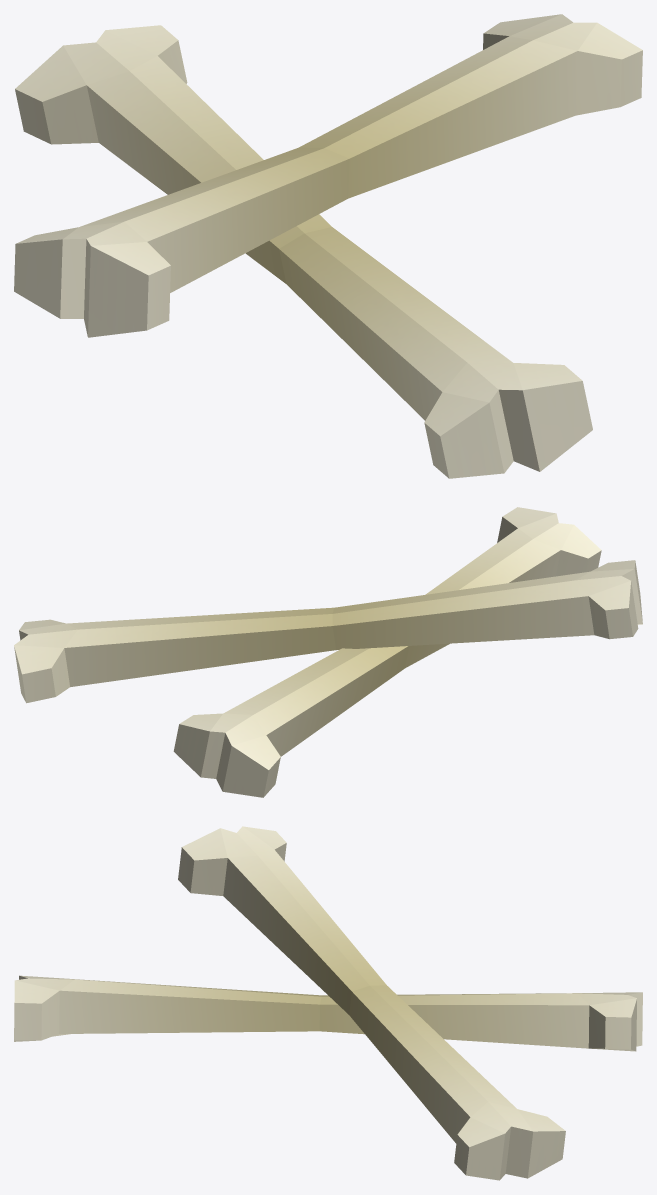
The model's file is Bones_Crossbones.fbx.
3 views of the same model, one above another, from view 1: azimuth 30°, elevation 25°; view 2: azimuth 150°, elevation 25°; view 3: azimuth 270°, elevation 25° (orthographic). The views are drawn at different scales.
Parts seen in each view (by area): view 1: Bones_Crossbones; view 2: Bones_Crossbones; view 3: Bones_Crossbones.
Boxes of the visible parts, box(x1,y1,x2,y2) form: Bones_Crossbones: box(14, 14, 642, 478); Bones_Crossbones: box(14, 507, 642, 797); Bones_Crossbones: box(14, 826, 642, 1180).
Size of the model in its own units: 58.05 by 13.55 by 61.77.
